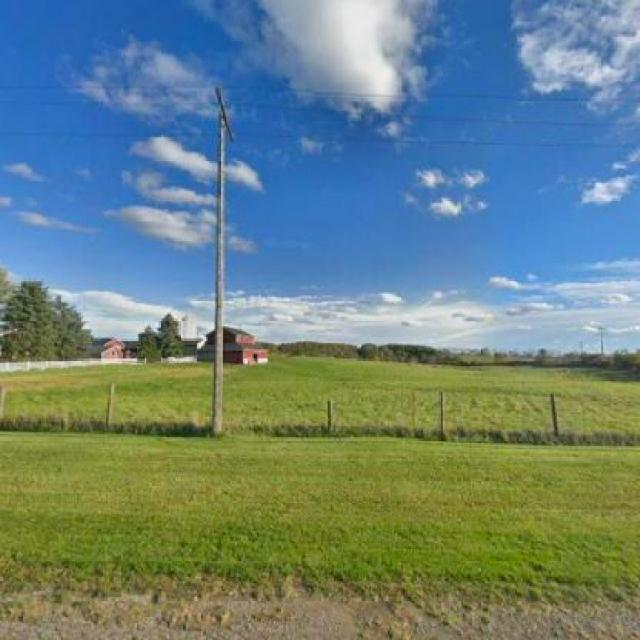crossarm: (217, 87, 235, 142)
pole: (213, 110, 226, 433)
